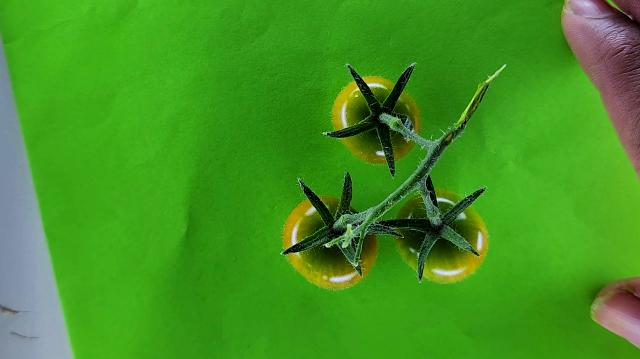Fully Grown: (392, 189, 489, 284), (284, 195, 378, 290), (333, 77, 420, 165)
